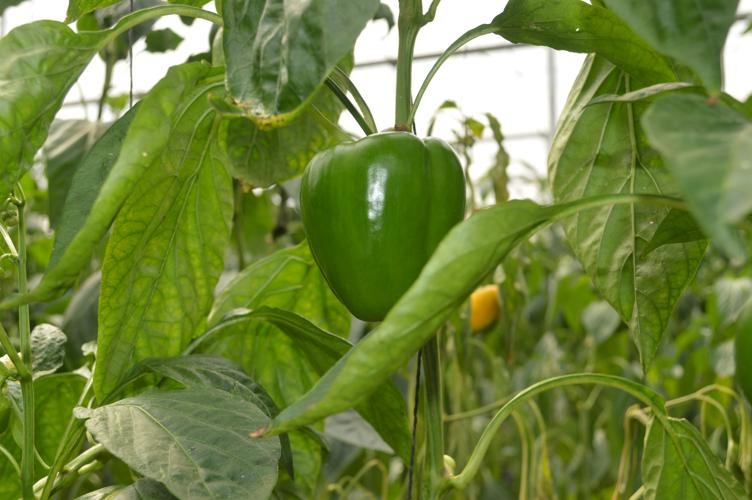BellPepper: (295, 132, 463, 326)
